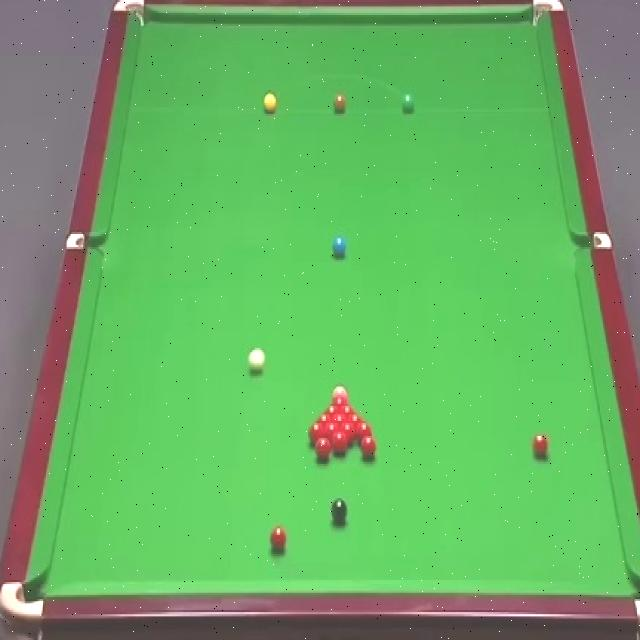black-ball: (331, 497, 348, 526), (332, 383, 349, 399)
blue-ball: (332, 236, 346, 260)
brown-ball: (333, 94, 346, 114)
green-ball: (402, 92, 419, 114)
red-ball: (268, 524, 287, 554), (360, 434, 377, 462), (330, 431, 348, 456), (532, 432, 550, 456), (315, 436, 331, 462), (308, 422, 325, 444), (355, 422, 371, 440), (341, 423, 354, 444), (324, 422, 340, 437), (316, 413, 334, 425), (330, 395, 349, 406), (340, 403, 356, 415), (347, 414, 364, 424), (325, 404, 339, 416), (334, 415, 346, 425)
white-ball: (247, 345, 266, 373)
yellow-ball: (263, 91, 277, 112)
